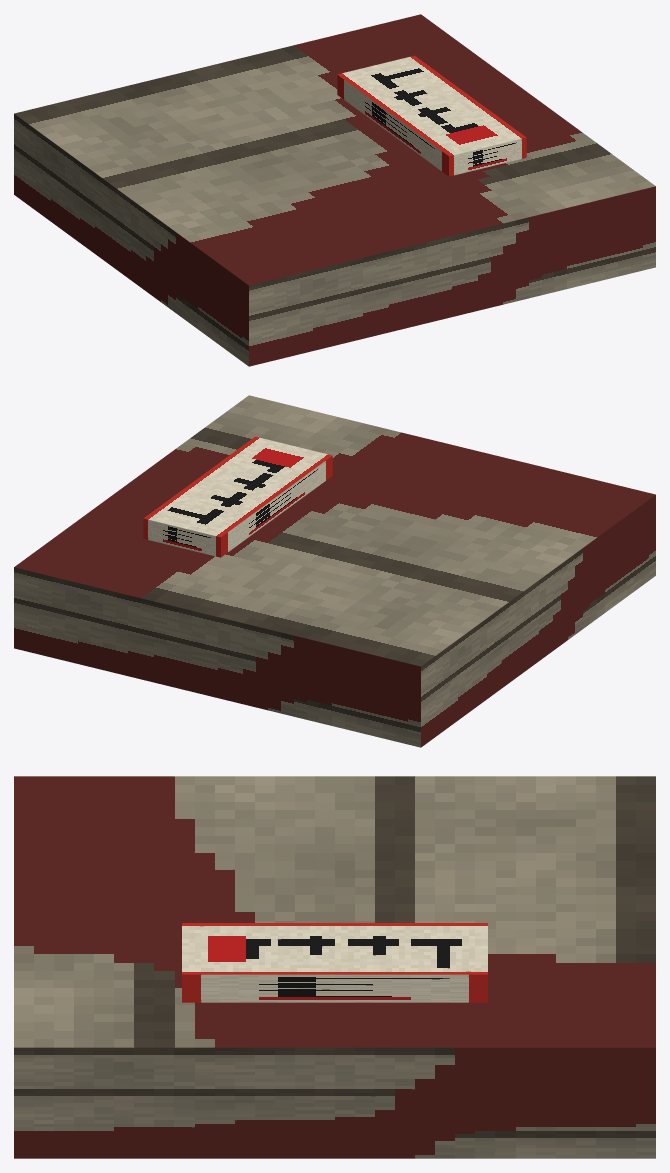
The model's file is shimenawa.obj.
The picture shows the model from 3 angles, top to bottom: view 1: azimuth 30°, elevation 25°; view 2: azimuth 150°, elevation 25°; view 3: azimuth 270°, elevation 25°; orthographic projection. The views are drawn at different scales.
Visible parts, largest first — view 1: part0, part1; view 2: part0, part1; view 3: part0, part1.
Part boxes in pixels (x1,y1,x2,y2): part0: (14, 14, 655, 366); part1: (337, 55, 526, 176); part0: (14, 395, 655, 747); part1: (143, 436, 332, 557); part0: (14, 776, 655, 1158); part1: (182, 923, 487, 1002).
Bounding box in the file's own units: 0.42 × 0.1 × 0.42.
2 materials, 2 textured.
